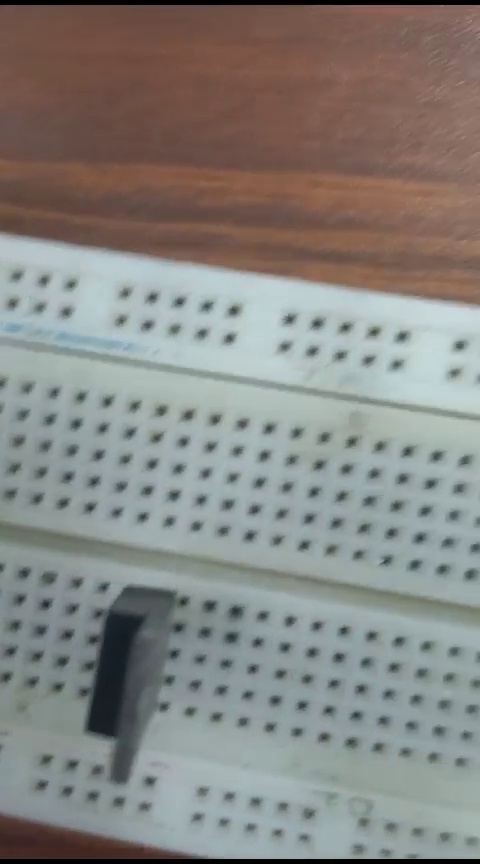voltage regulator: (92, 583, 178, 787)
